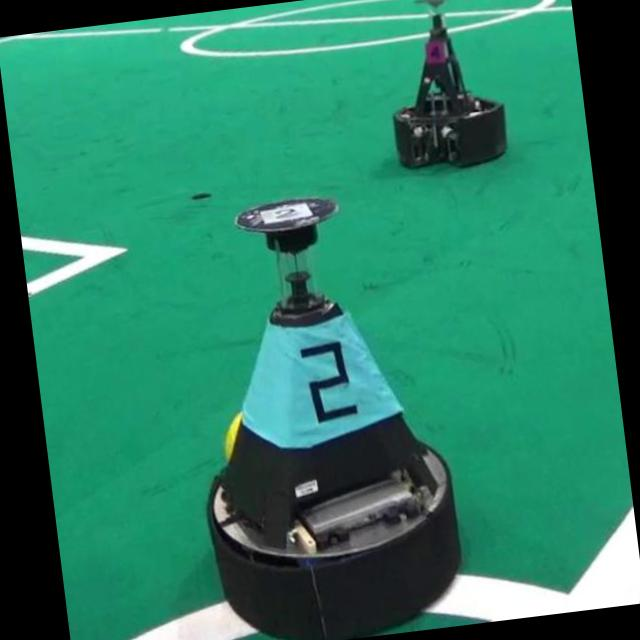robot: (207, 197, 460, 640), (393, 13, 505, 166)
